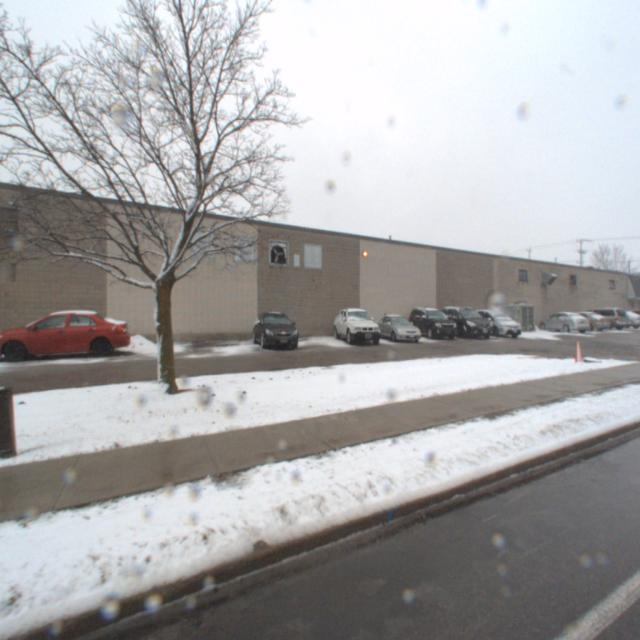Car: (432, 306, 496, 343), (250, 308, 302, 352), (332, 304, 383, 348), (403, 304, 459, 342), (460, 310, 523, 341), (368, 312, 424, 346), (563, 311, 629, 336), (533, 314, 589, 340), (552, 315, 610, 337)
